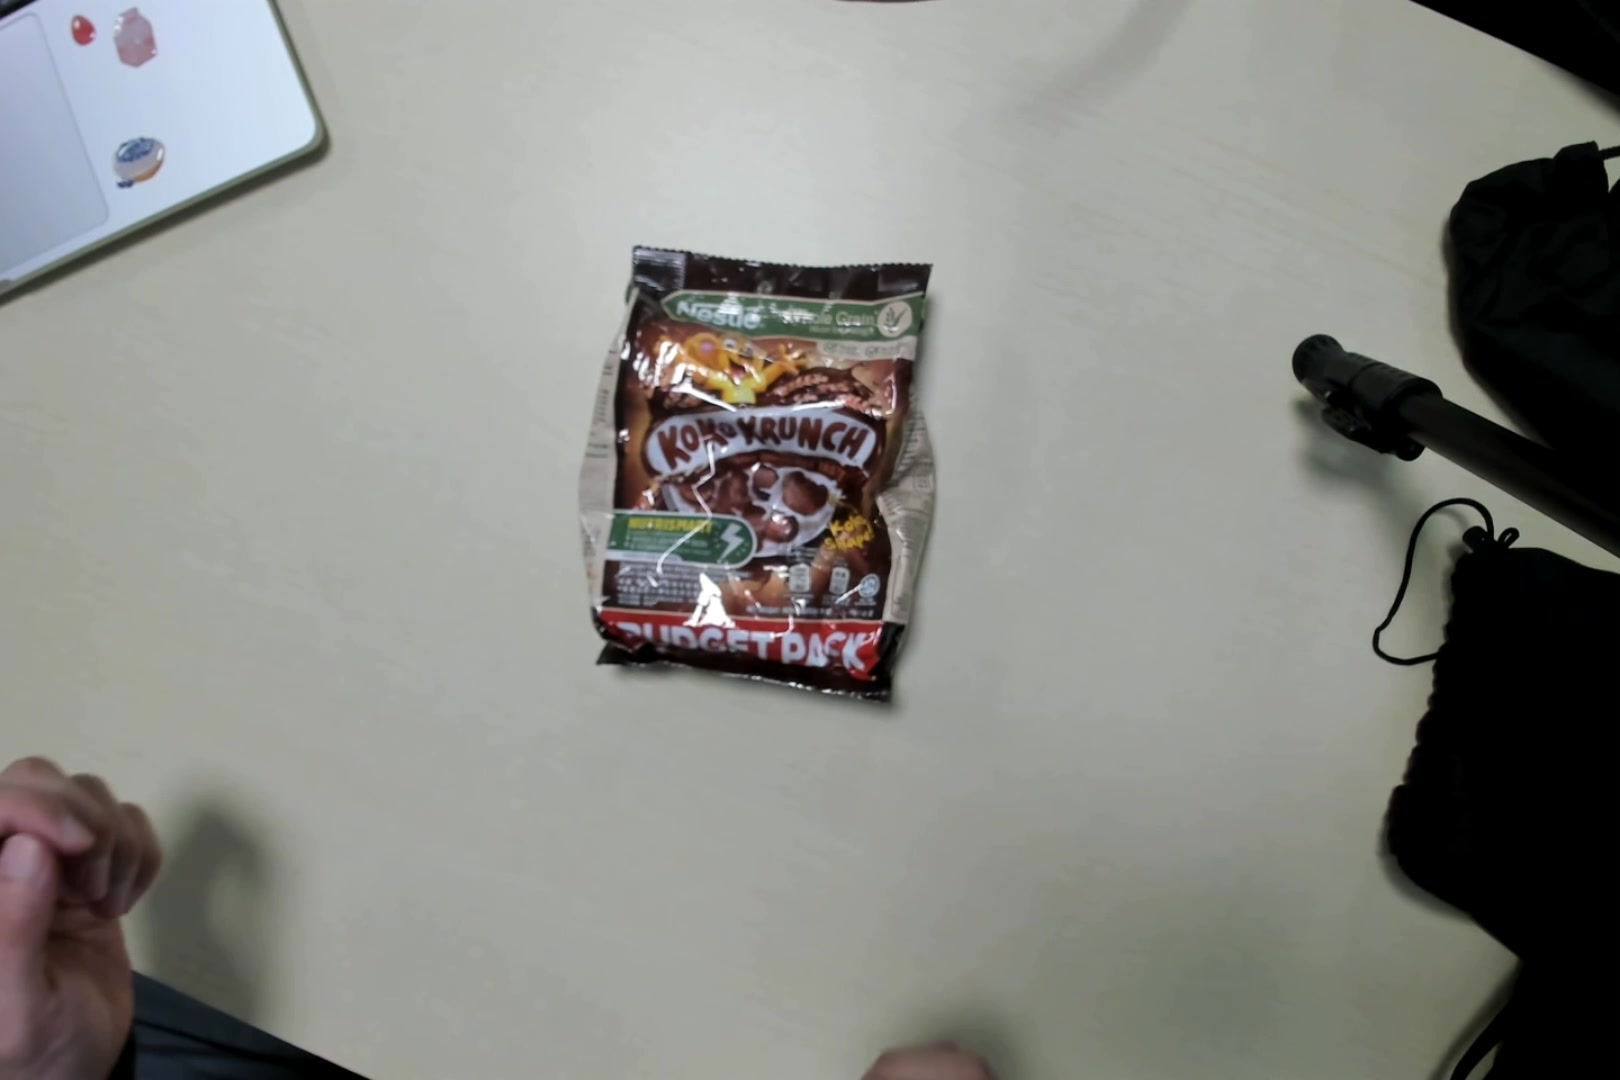BreakfastCereals_0-99g_Halal_NonHealthy: (581, 215, 934, 697)
